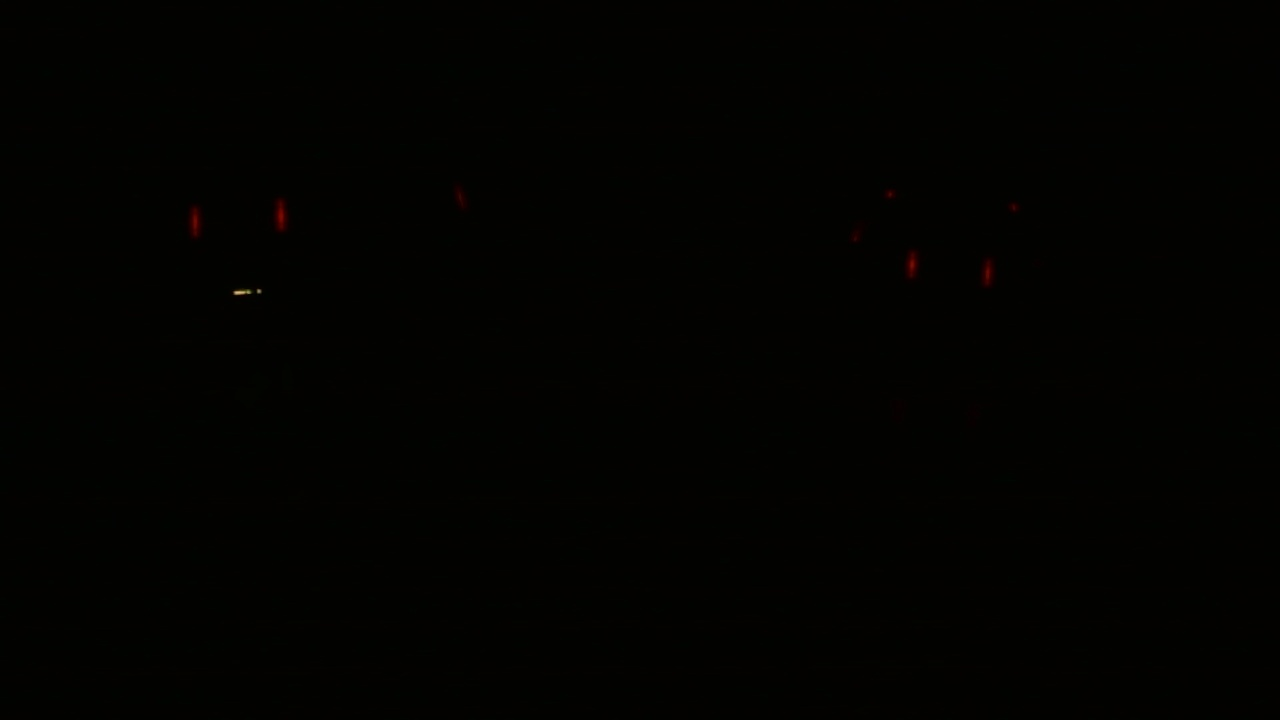pair1: (182, 191, 301, 254)
pair2: (899, 242, 1004, 300)
